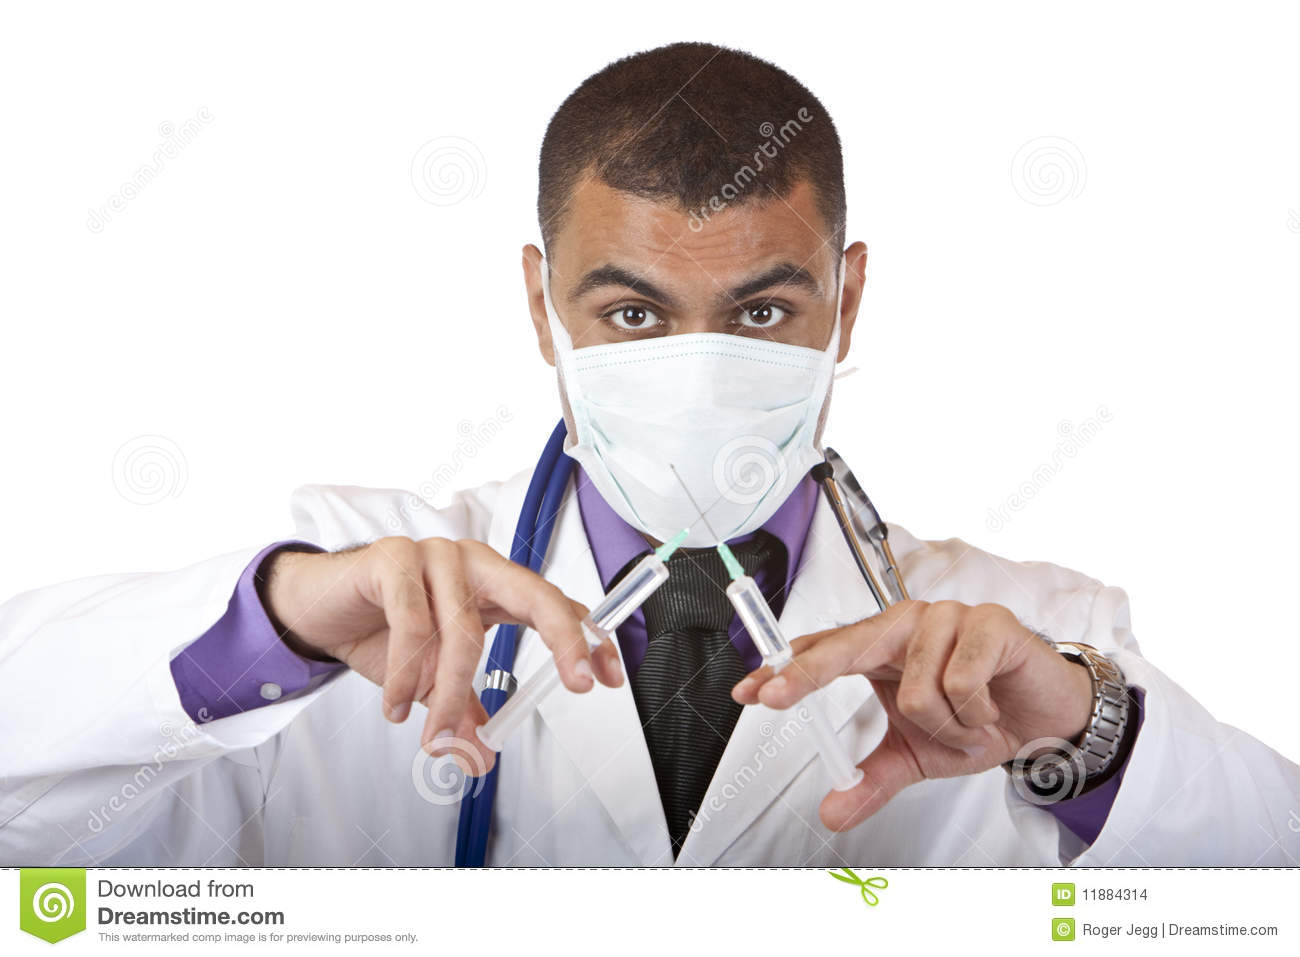mask: (562, 336, 833, 545)
